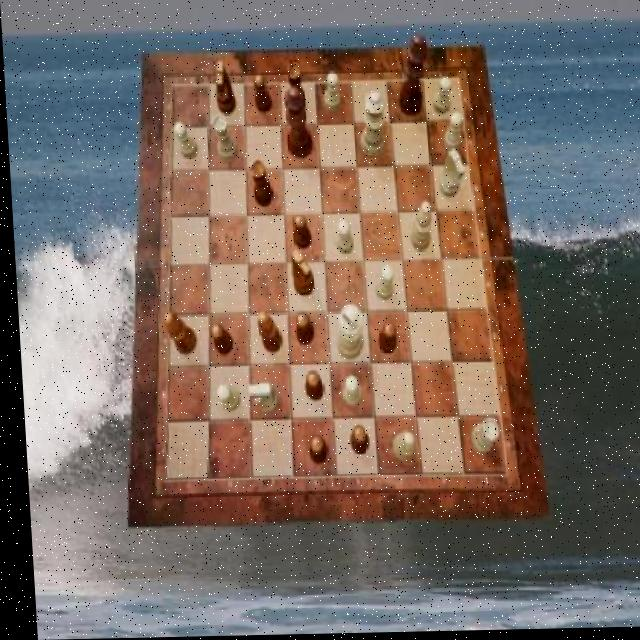bishop: (157, 312, 192, 355), (253, 311, 278, 354)
black-bishop: (393, 37, 429, 118)
black-king: (212, 62, 235, 116), (287, 252, 311, 298)
black-knight: (205, 324, 229, 357), (251, 75, 270, 116), (289, 315, 310, 347), (300, 372, 321, 403), (290, 217, 309, 251), (373, 324, 392, 357), (343, 428, 363, 456), (303, 438, 323, 466)
black-pawn: (281, 88, 311, 161)
black-queen: (248, 161, 271, 208), (285, 64, 305, 115)
black-rook: (406, 204, 431, 253), (385, 433, 409, 466)
white-bishop: (331, 306, 360, 361)
white-king: (436, 151, 465, 200), (243, 383, 272, 415)
white-knight: (172, 121, 197, 159), (440, 115, 462, 154), (430, 78, 452, 116), (321, 74, 340, 114), (371, 266, 391, 301), (211, 385, 235, 413), (331, 222, 350, 256), (339, 377, 358, 410)
white-pawn: (355, 93, 386, 160)
white-queen: (210, 116, 235, 164), (463, 420, 494, 456)
